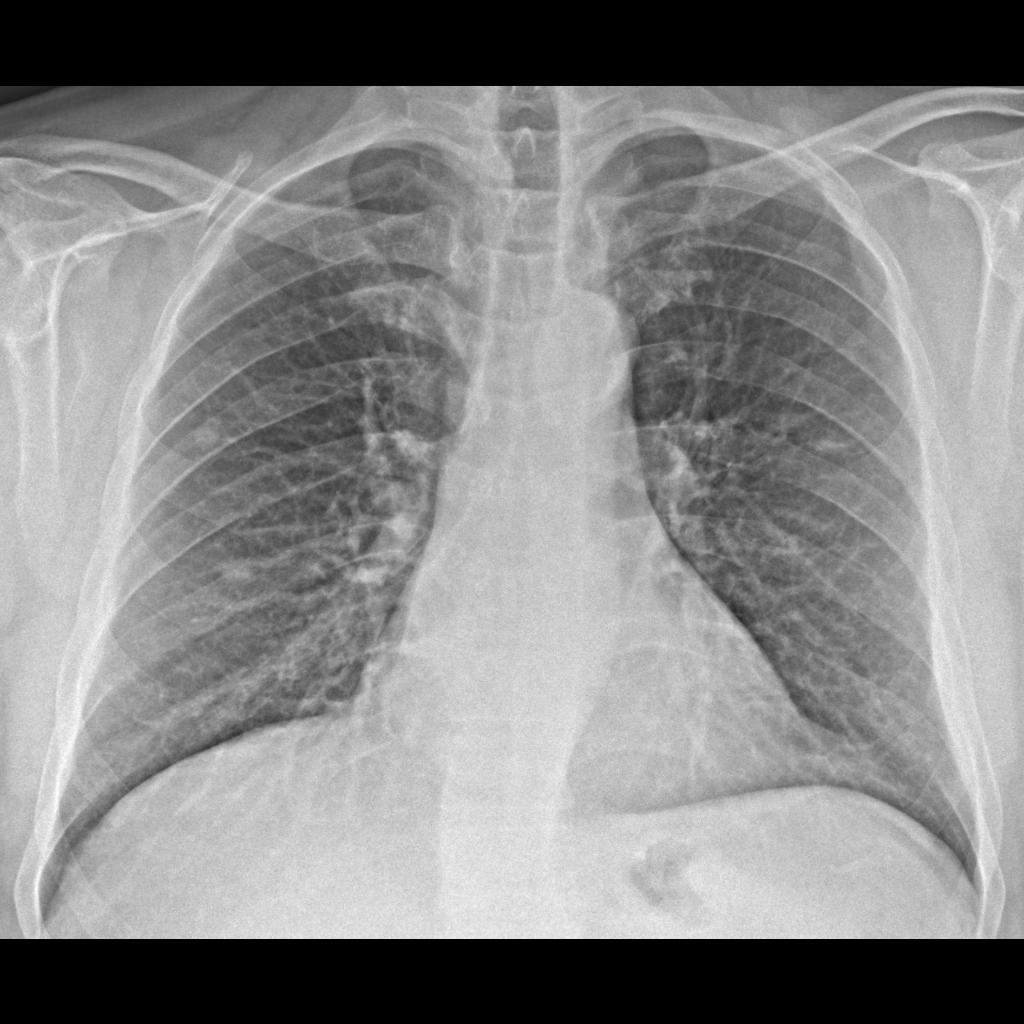Nodule: (215, 549, 262, 604), (188, 419, 234, 464)
